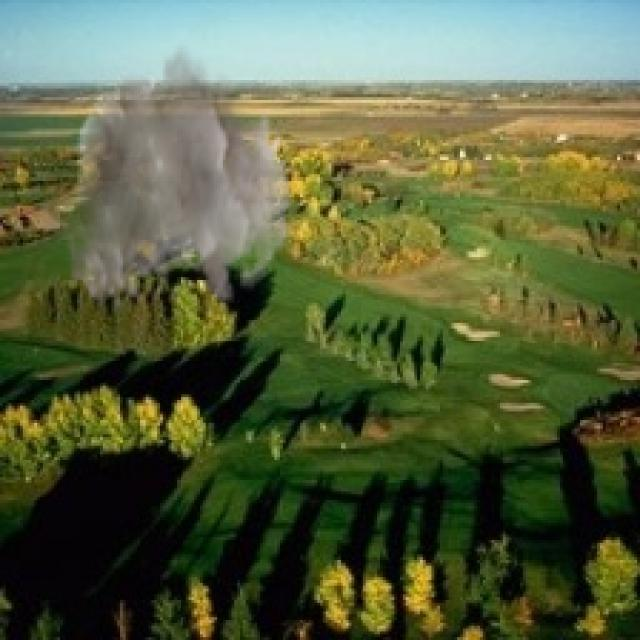Smoke: (66, 40, 292, 312)
